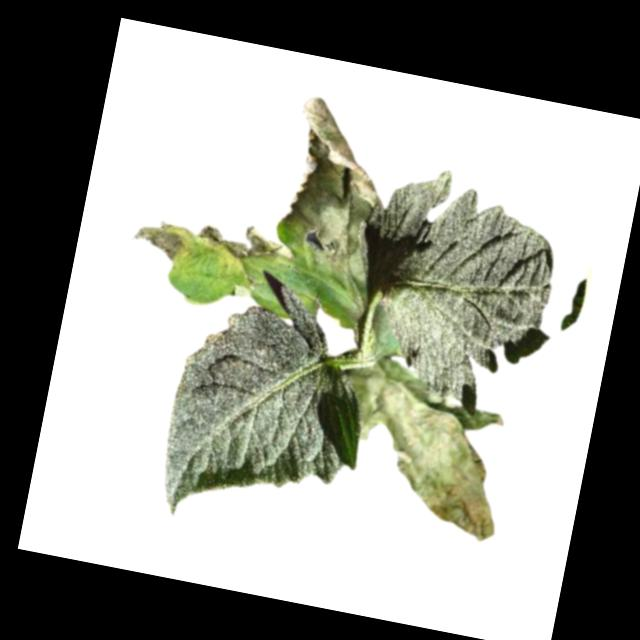Late_blight: (318, 352, 523, 544), (270, 91, 396, 278), (190, 215, 285, 271), (127, 214, 196, 265), (223, 261, 259, 300), (335, 291, 366, 321)
